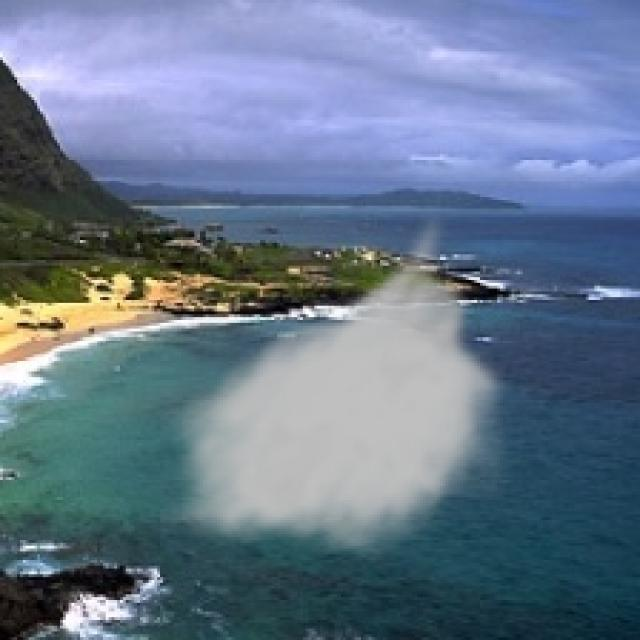smoke: (157, 209, 514, 560)
